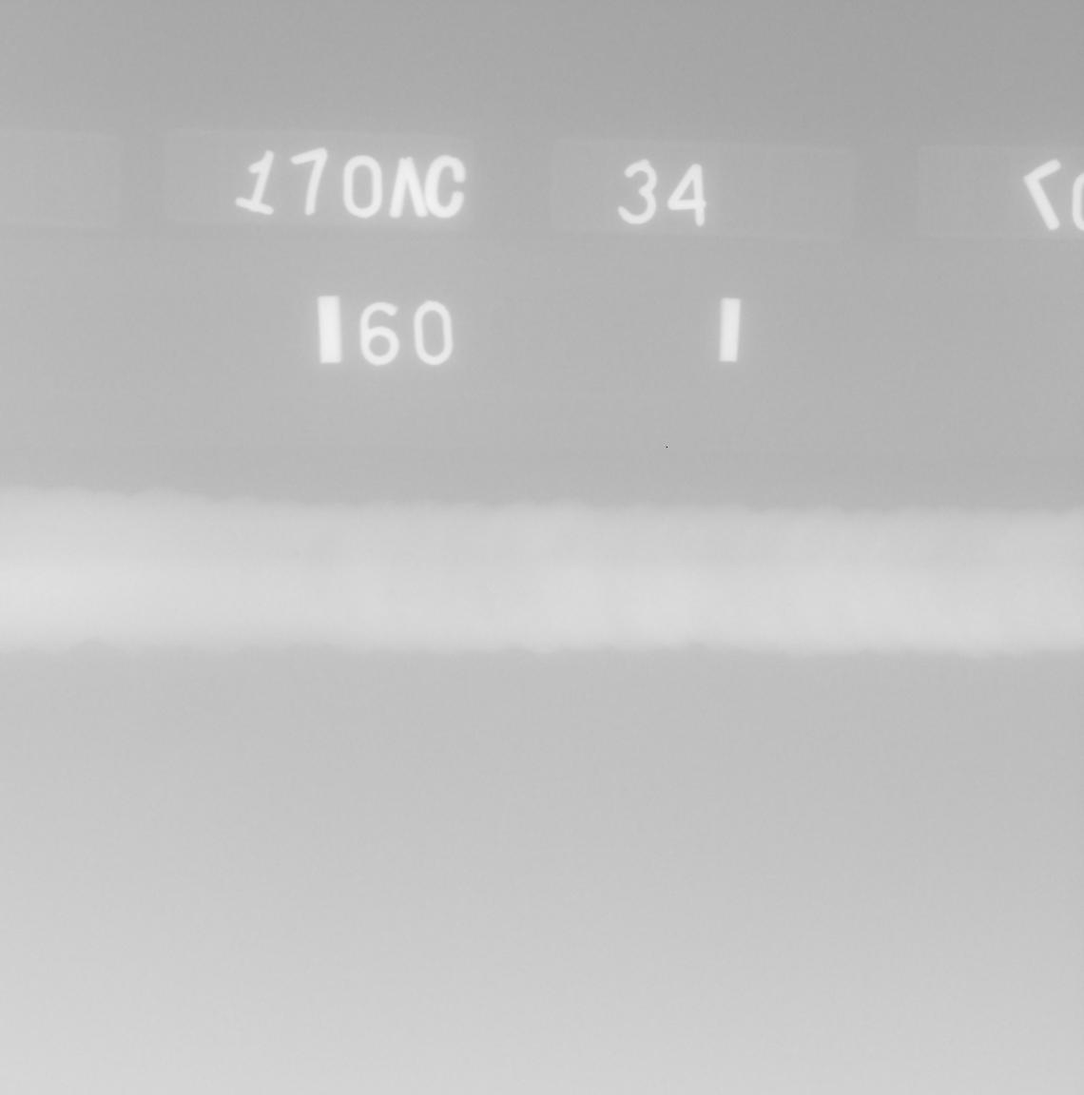Pore/Porosity: (293, 551, 300, 557), (389, 590, 395, 595), (368, 548, 373, 552)
